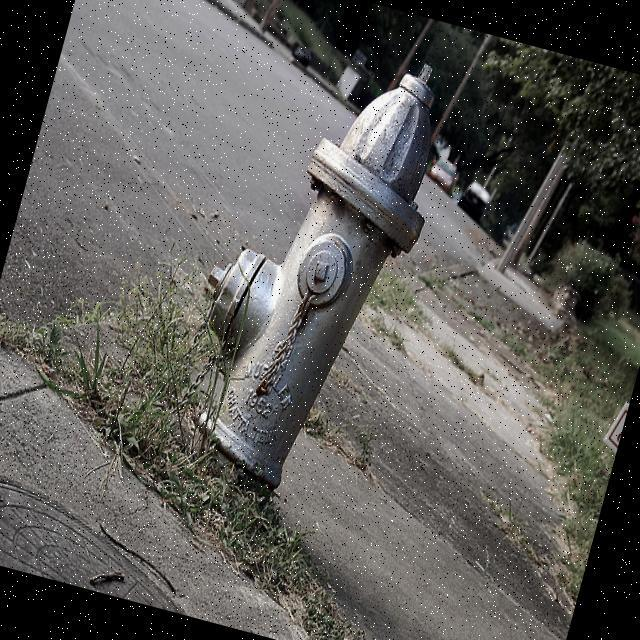fire_hydrant: (158, 21, 463, 508)
